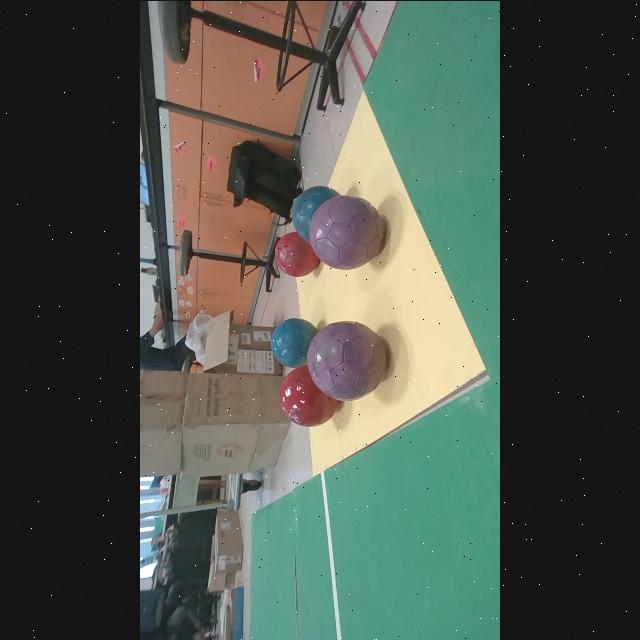B: (292, 186, 338, 240), (271, 318, 317, 367)
P: (307, 320, 387, 399), (309, 194, 384, 269)
R: (280, 364, 340, 426), (276, 231, 320, 276)
